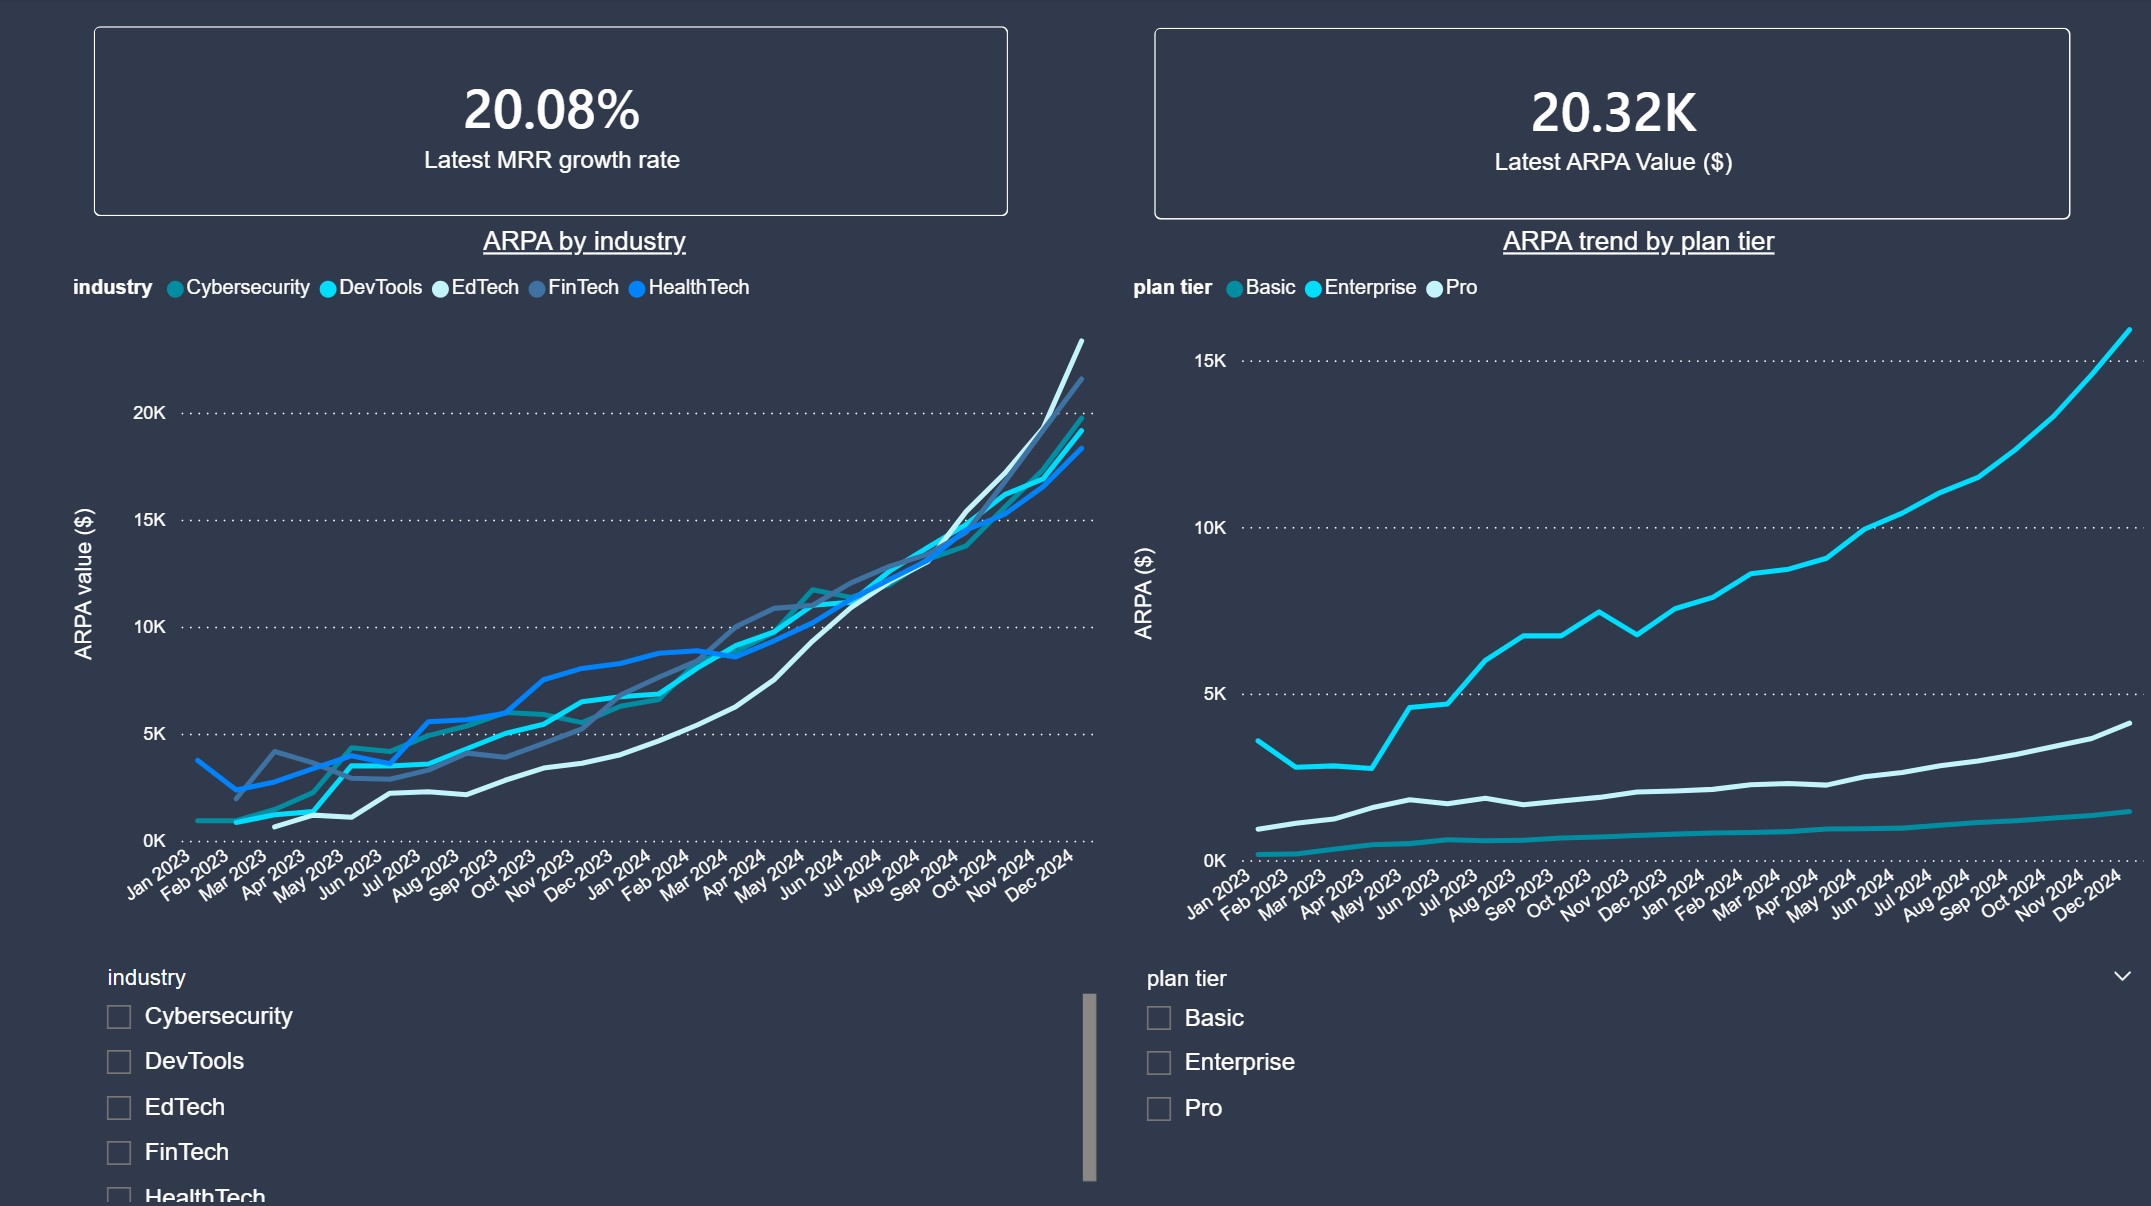

The dashboard page shown, as its layout file describes it:
{"tool":"powerbi","page":{"name":"2 페이지","canvas":[1280,720],"ordinal":1},"visuals":[{"type":"cardVisual","fields":{"Data":["Sum(vw_mrr_growth_by_tier.mrr_change_rate)"]},"box":[39.6,0,577.5,147.8],"z":0},{"type":"lineChart","title":"ARPA by industry","fields":{"Y":["Avg(vw_arpa_by_industry.arpa)"],"Series":["vw_arpa_by_industry.industry"],"Category":["vw_arpa_by_industry.Month_Display"]},"box":[40,136.2,617.5,421.2],"z":1000},{"type":"slicer","fields":{"Values":["vw_arpa_by_industry.industry"]},"box":[52.5,568.8,605,151.2],"z":2000},{"type":"cardVisual","fields":{"Data":["Avg(vw_arpa_by_tier.arpa)"]},"box":[669.4,0.9,578,148],"z":3000},{"type":"lineChart","title":"ARPA trend by plan tier","fields":{"Category":["vw_arpa_by_tier.Month_Display"],"Y":["Avg(vw_arpa_by_tier.arpa)"],"Series":["vw_arpa_by_tier.plan_tier"]},"box":[669.5,136.5,610,432.8],"z":4001}]}

Visuals, with their boxes in screenshot pixels (x1, y1, x2, y2), scaled from the page's 1280x720 canvas onto the 2151x1206 screenshot:
cardVisual - Sum(vw_mrr_growth_by_tier.mrr_change_rate): Rect(67, 0, 1037, 248)
"ARPA by industry" lineChart: Rect(67, 228, 1105, 934)
slicer - vw_arpa_by_industry.industry: Rect(88, 953, 1105, 1205)
cardVisual - Avg(vw_arpa_by_tier.arpa): Rect(1125, 2, 2096, 249)
"ARPA trend by plan tier" lineChart: Rect(1125, 229, 2150, 954)
